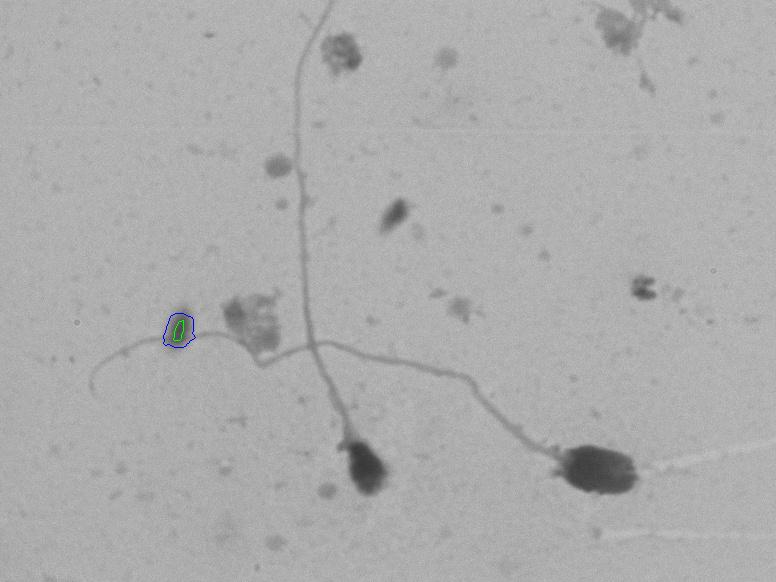Abnormal: (280, 28, 392, 525), (426, 356, 701, 512)
